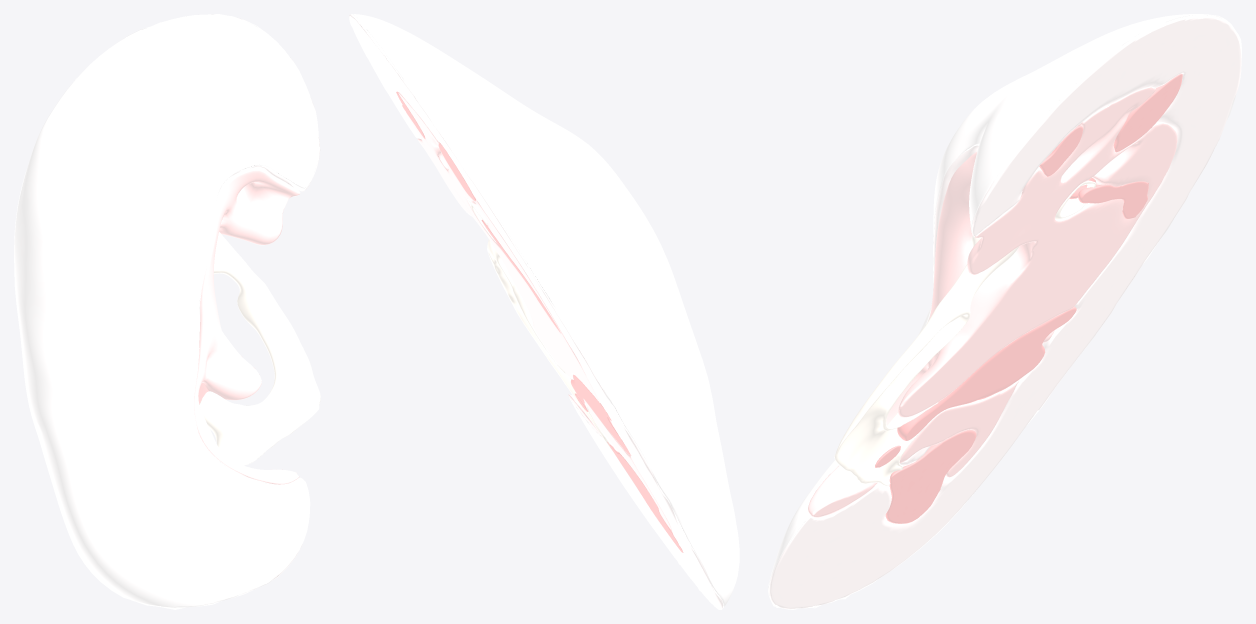
File: VHM_Kidney_R_Bisect_Anterior.glb
The picture shows the model from 3 angles, left to right: view 1: azimuth 30°, elevation 25°; view 2: azimuth 150°, elevation 25°; view 3: azimuth 270°, elevation 25°; orthographic projection. The views are drawn at different scales.
Visible parts, largest first — view 1: VHM_Kidney_R_Capsule_Anterior, VHM_Kidney_R_Calyses_Anterior, VHM_Kidney_R_RenalColumns_Anterior, VHM_Kidney_R_OuterCortex_Anterior; view 2: VHM_Kidney_R_Capsule_Anterior, VHM_Kidney_R_OuterCortex_Anterior, VHM_Kidney_R_RenalColumns_Anterior, VHM_Kidney_R_Pyramids_Anterior, VHM_Kidney_R_Calyses_Anterior; view 3: VHM_Kidney_R_OuterCortex_Anterior, VHM_Kidney_R_RenalColumns_Anterior, VHM_Kidney_R_Pyramids_Anterior, VHM_Kidney_R_Capsule_Anterior, VHM_Kidney_R_Calyses_Anterior.
Part boxes in pixels (x1,y1,x2,y2): VHM_Kidney_R_Capsule_Anterior: (14, 14, 318, 609); VHM_Kidney_R_Calyses_Anterior: (199, 232, 320, 465); VHM_Kidney_R_RenalColumns_Anterior: (194, 167, 300, 484); VHM_Kidney_R_OuterCortex_Anterior: (75, 16, 320, 606); VHM_Kidney_R_Capsule_Anterior: (351, 14, 739, 609); VHM_Kidney_R_OuterCortex_Anterior: (349, 14, 723, 609); VHM_Kidney_R_RenalColumns_Anterior: (398, 92, 671, 528); VHM_Kidney_R_Pyramids_Anterior: (396, 91, 683, 552); VHM_Kidney_R_Calyses_Anterior: (466, 197, 613, 452); VHM_Kidney_R_OuterCortex_Anterior: (769, 15, 1241, 609); VHM_Kidney_R_RenalColumns_Anterior: (808, 86, 1177, 517); VHM_Kidney_R_Pyramids_Anterior: (875, 73, 1182, 523); VHM_Kidney_R_Capsule_Anterior: (768, 14, 1235, 608); VHM_Kidney_R_Calyses_Anterior: (834, 180, 1095, 486).
Size of the model in its own units: 0.0757 by 0.1285 by 0.0818.
